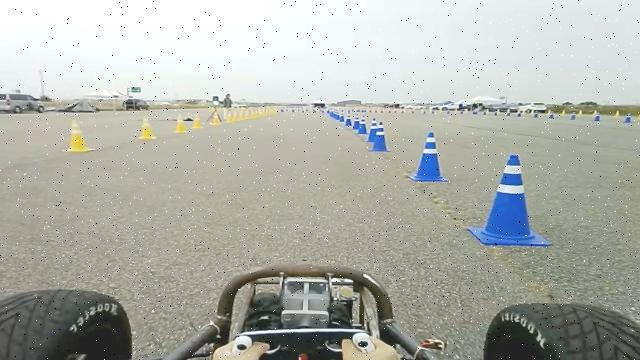blue cone: (467, 154, 552, 246), (407, 131, 451, 182), (369, 131, 391, 152), (365, 118, 380, 142), (357, 115, 368, 134), (624, 116, 632, 123), (548, 113, 556, 119), (594, 115, 601, 121), (570, 114, 577, 120), (533, 112, 539, 118)
yellow cone: (63, 119, 95, 152), (138, 115, 157, 139), (174, 113, 188, 133), (192, 113, 204, 129), (225, 109, 235, 123), (212, 114, 221, 126), (240, 108, 248, 121), (594, 110, 602, 121), (614, 110, 620, 118), (578, 109, 584, 116), (562, 108, 566, 116), (637, 111, 640, 120)
